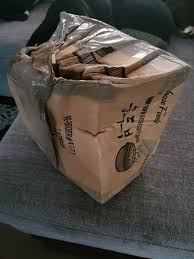damaged package: (18, 12, 145, 91), (38, 107, 63, 176)
